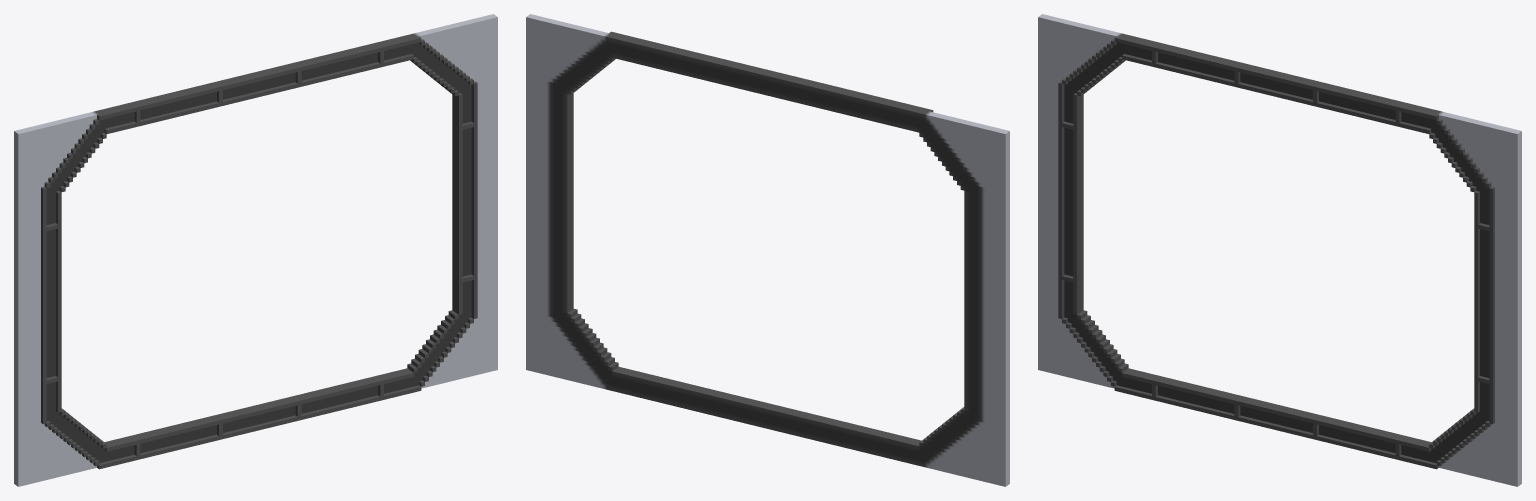
Rendered from Frame_Octagon.obj.
3 views of the same model, side by side, from view 1: azimuth 30°, elevation 25°; view 2: azimuth 150°, elevation 25°; view 3: azimuth 330°, elevation 25° (orthographic).
Visible parts, largest first — view 1: Frame_Octagon; view 2: Frame_Octagon; view 3: Frame_Octagon.
Boxes of the visible parts, box(x1,y1,x2,y2) form: Frame_Octagon: box(14, 14, 497, 486); Frame_Octagon: box(526, 14, 1009, 486); Frame_Octagon: box(1038, 14, 1521, 486).
Bounding box in the file's own units: 128 × 90 × 3.
Materials: 1 (1 with a texture image).
